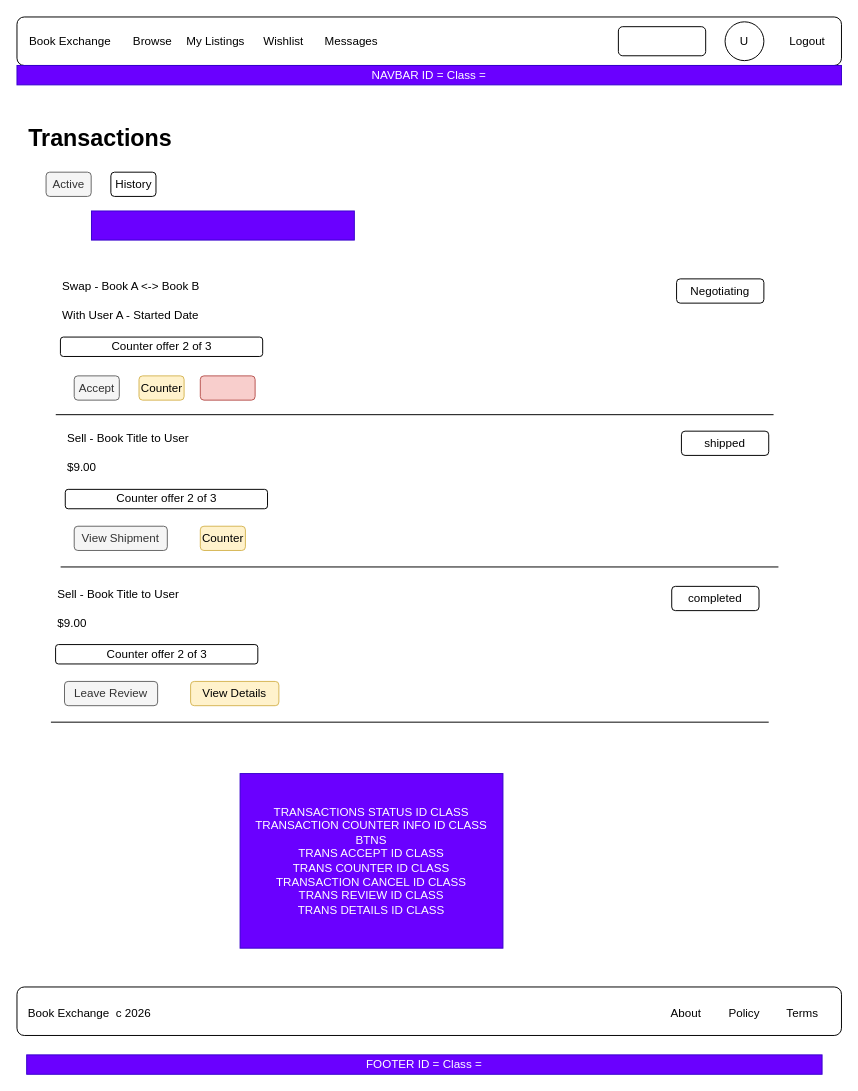
This 858x1091 diagram has some shape labels left out. Each missing label, with the centre of its shape:
"Cancel" belongs at point (227, 387).
"Notifications" belongs at point (661, 41).
"TRANSACTIONS TAB ID CLASS" belongs at point (222, 225).
